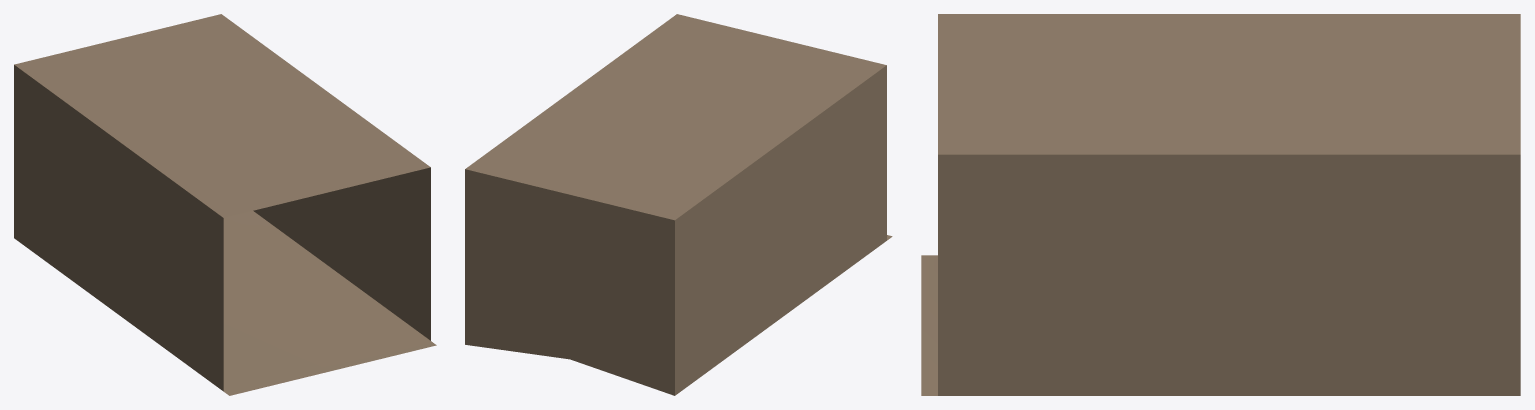
Rendered from underwater room.fbx.
3 renders of one model, left to right at view 1: azimuth 30°, elevation 25°; view 2: azimuth 150°, elevation 25°; view 3: azimuth 270°, elevation 25°, orthographic. The views are drawn at different scales.
Visible parts, largest first — view 1: underwater ruin_room.001; view 2: underwater ruin_room.001; view 3: underwater ruin_room.001.
Boxes of the visible parts, bbox=[...] form: underwater ruin_room.001: bbox=[14, 14, 436, 395]; underwater ruin_room.001: bbox=[465, 14, 892, 395]; underwater ruin_room.001: bbox=[921, 14, 1520, 395].
Size of the model in its own units: 10 by 8 by 18.
